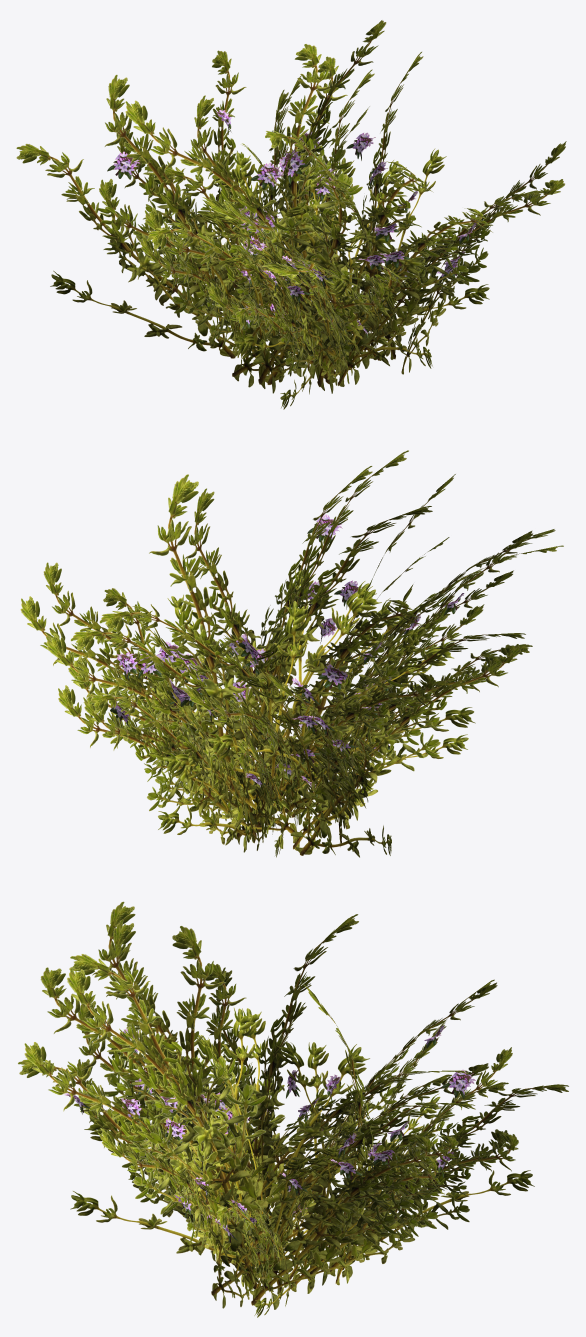
Rendered from runtime-purple-shrub.glb.
3 renders of one model, top to bottom at view 1: azimuth 30°, elevation 25°; view 2: azimuth 150°, elevation 25°; view 3: azimuth 270°, elevation 25°, orthographic. The views are drawn at different scales.
Visible parts, largest first — view 1: LOD0; view 2: LOD0; view 3: LOD0.
Part boxes in pixels (x1,y1,x2,y2): LOD0: (16,20,566,409); LOD0: (20,450,563,857); LOD0: (18,901,568,1317).
Size of the model in its own units: 1.01 by 0.7266 by 1.05.
Materials: 1 (1 with a texture image).
